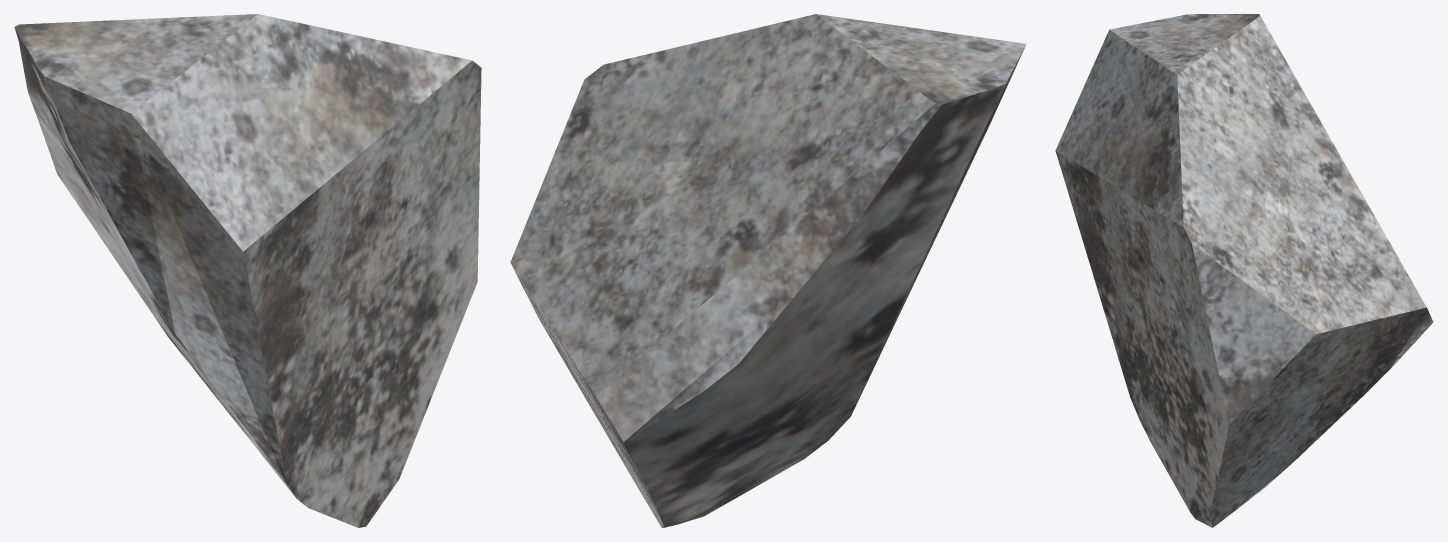
Rendered from Asteroid_Large_001_02_005_03_010.fbx.
The picture shows the model from 3 angles, left to right: view 1: azimuth 30°, elevation 25°; view 2: azimuth 150°, elevation 25°; view 3: azimuth 270°, elevation 25°; orthographic projection. The views are drawn at different scales.
Parts seen in each view (by area): view 1: Asteroid_Large_001_02_005_03_010; view 2: Asteroid_Large_001_02_005_03_010; view 3: Asteroid_Large_001_02_005_03_010.
Boxes of the visible parts, <box> form: Asteroid_Large_001_02_005_03_010: <box>14,14,481,527</box>; Asteroid_Large_001_02_005_03_010: <box>510,14,1026,527</box>; Asteroid_Large_001_02_005_03_010: <box>1055,14,1433,527</box>.
Bounding box in the file's own units: 7.92 × 9.11 × 7.72.
